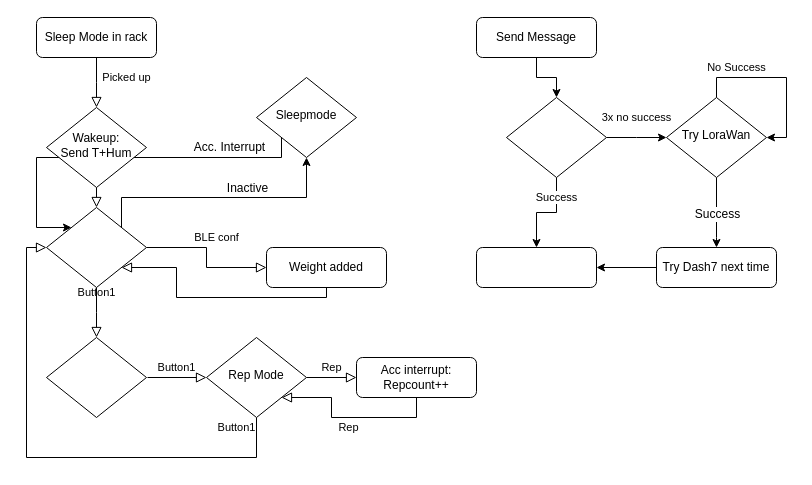
Image size: 812x485. Some labels were removed from this diagram. The centre of each missing label's shape, as x and y in pixels:
"Done sending" goes at point (536, 267).
"Idle Mode" goes at point (96, 247).
"Send all info" goes at point (96, 377).
"Try Dash7" goes at point (556, 137).
